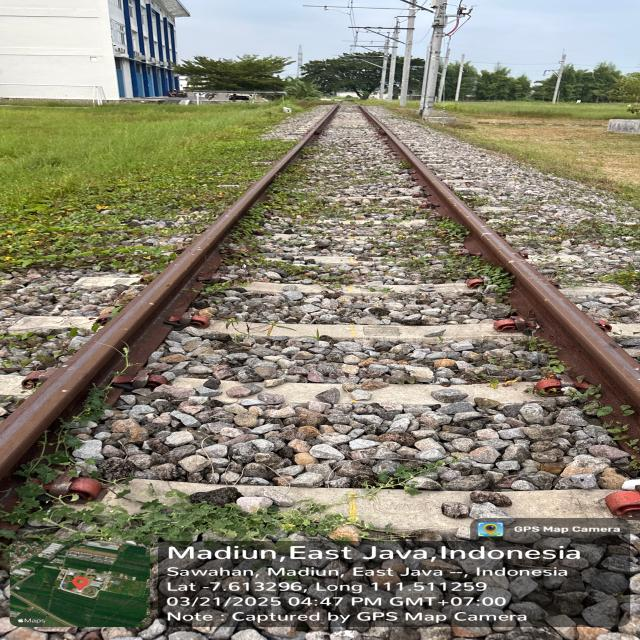rail-detection: (0, 111, 334, 479), (360, 107, 640, 438)
